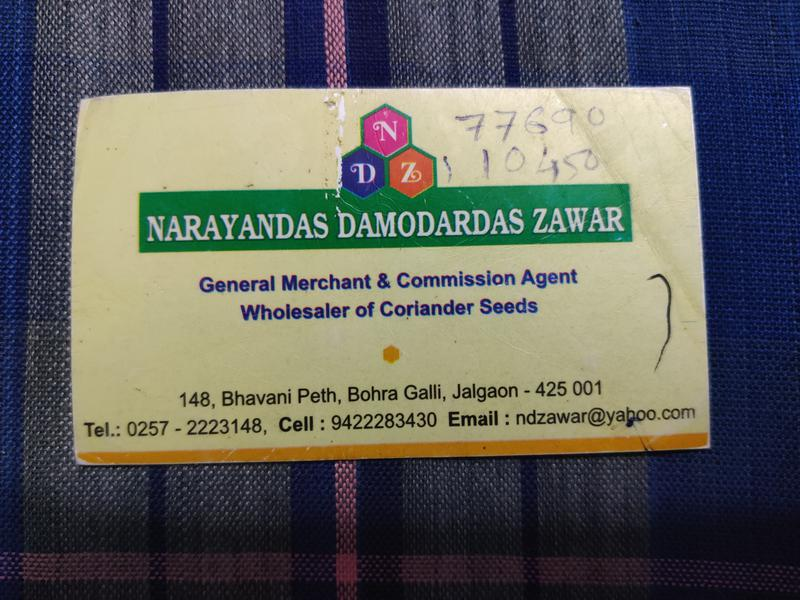card: (74, 87, 711, 466)
